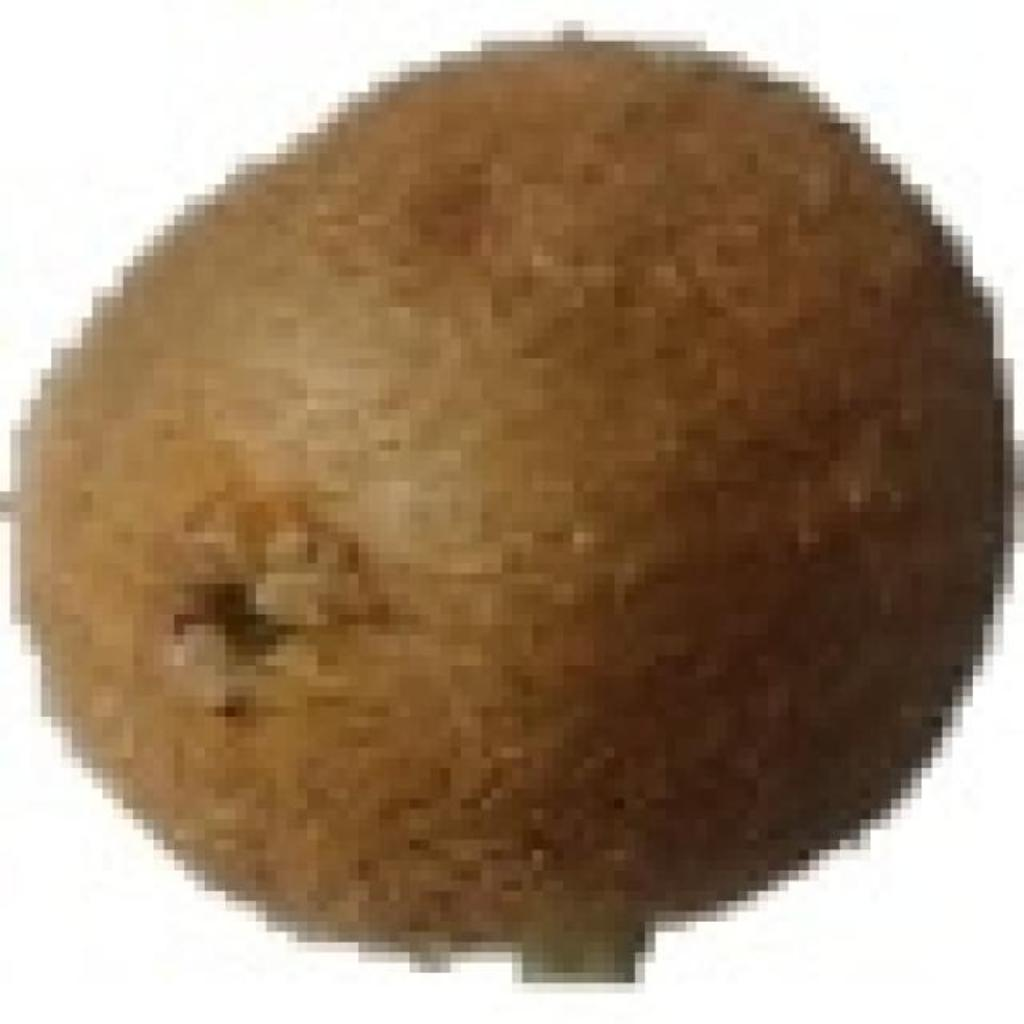kiwi: (10, 31, 993, 963)
